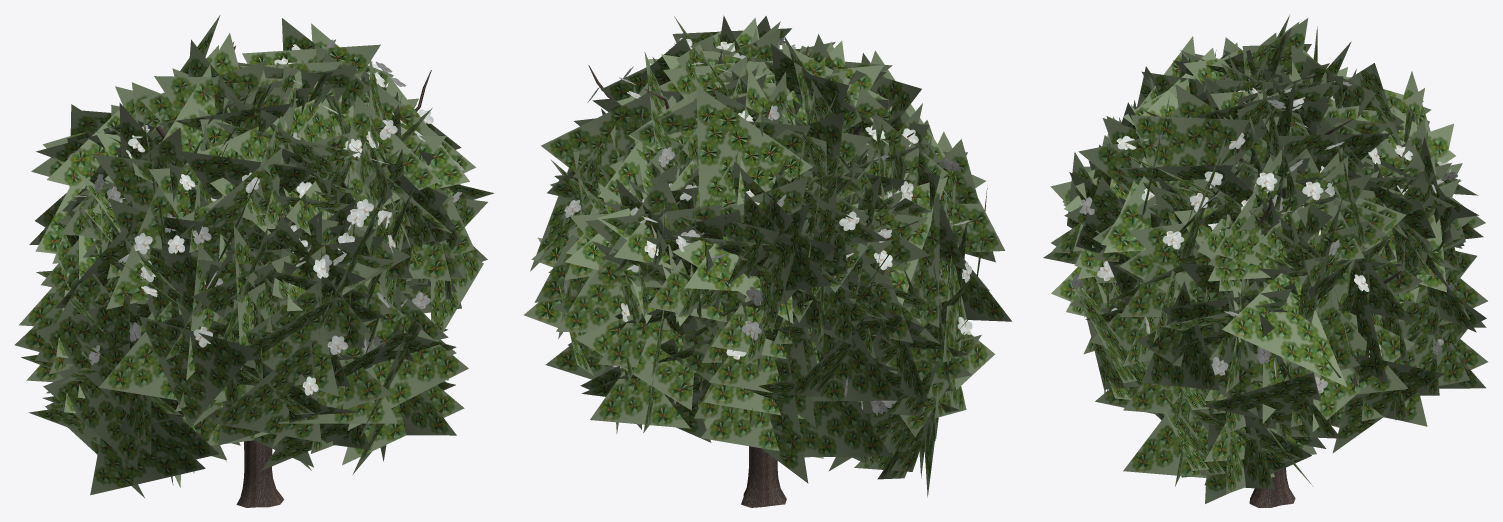
The model's file is Magnolia_Grandiflora_Spring_Adult.glb.
The picture shows the model from 3 angles, left to right: view 1: azimuth 30°, elevation 25°; view 2: azimuth 150°, elevation 25°; view 3: azimuth 270°, elevation 25°; orthographic projection.
Parts seen in each view (by area): view 1: Magnolia_Grandiflora_Spring_Adult__LOD3; view 2: Magnolia_Grandiflora_Spring_Adult__LOD3; view 3: Magnolia_Grandiflora_Spring_Adult__LOD3.
Boxes of the visible parts, x1,y1,x2,y2 form: Magnolia_Grandiflora_Spring_Adult__LOD3: (14, 15, 493, 507); Magnolia_Grandiflora_Spring_Adult__LOD3: (524, 15, 1011, 507); Magnolia_Grandiflora_Spring_Adult__LOD3: (1043, 15, 1487, 507).
Size of the model in its own units: 18.36 by 18.96 by 16.62.
Materials: 3 (3 with a texture image).
